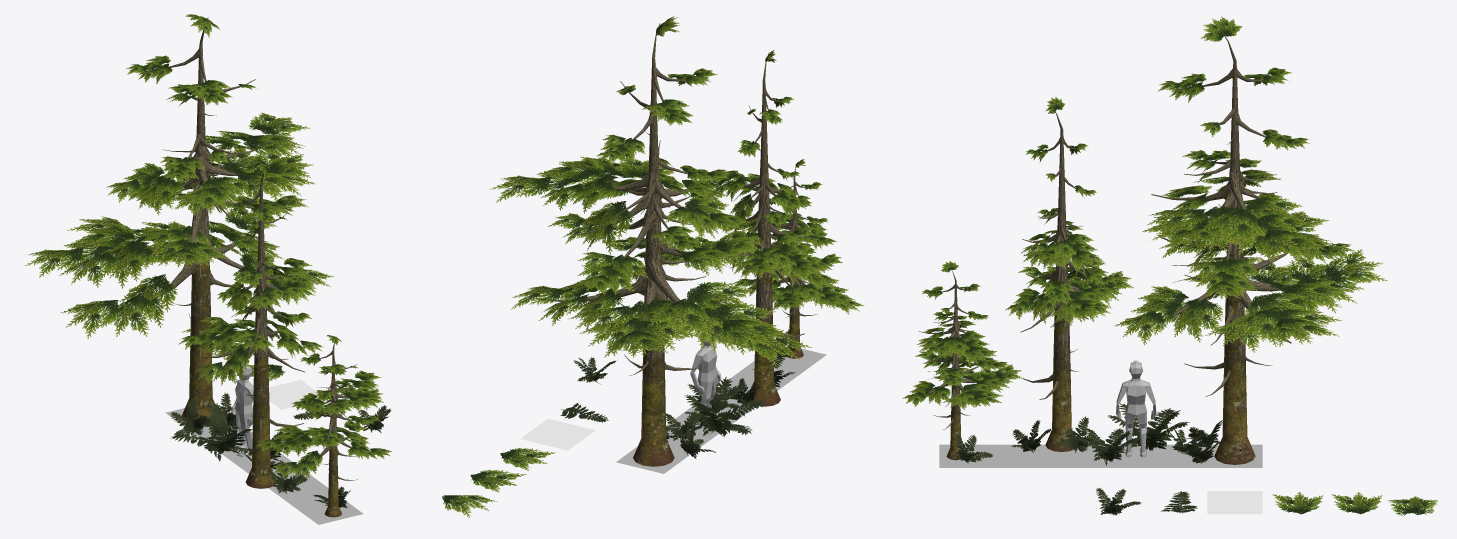
Rendered from spruce_tree.glb.
3 views of the same model, side by side, from view 1: azimuth 30°, elevation 25°; view 2: azimuth 150°, elevation 25°; view 3: azimuth 270°, elevation 25° (orthographic). The views are drawn at different scales.
Visible parts, largest first — view 1: Big_Tree1_group7_pPlane11_M_LeavesClutch_0, Big_Tree1_group7_pPlane11_M_Tree_0, Big_Tree1_group7_pPlane11_M_Ferns_0, Big_Tree1_group7_pPlane11_lambert1_0, Big_Tree1_group7_pPlane11_lambert3_0; view 2: Big_Tree1_group7_pPlane11_M_LeavesClutch_0, Big_Tree1_group7_pPlane11_M_Tree_0, Big_Tree1_group7_pPlane11_M_Ferns_0, Big_Tree1_group7_pPlane11_lambert1_0, Big_Tree1_group7_pPlane11_lambert3_0; view 3: Big_Tree1_group7_pPlane11_M_LeavesClutch_0, Big_Tree1_group7_pPlane11_M_Tree_0, Big_Tree1_group7_pPlane11_lambert1_0, Big_Tree1_group7_pPlane11_M_Ferns_0, Big_Tree1_group7_pPlane11_lambert3_0.
Part boxes in pixels (x1,y1,x2,y2): Big_Tree1_group7_pPlane11_M_LeavesClutch_0: (25,14,391,478); Big_Tree1_group7_pPlane11_M_Tree_0: (73,17,357,517); Big_Tree1_group7_pPlane11_M_Ferns_0: (170,392,391,507); Big_Tree1_group7_pPlane11_lambert1_0: (165,365,363,524); Big_Tree1_group7_pPlane11_lambert3_0: (269,380,318,409); Big_Tree1_group7_pPlane11_M_LeavesClutch_0: (442,16,864,517); Big_Tree1_group7_pPlane11_M_Tree_0: (535,23,835,466); Big_Tree1_group7_pPlane11_M_Ferns_0: (560,329,795,458); Big_Tree1_group7_pPlane11_lambert1_0: (616,332,826,473); Big_Tree1_group7_pPlane11_lambert3_0: (520,418,595,450); Big_Tree1_group7_pPlane11_M_LeavesClutch_0: (902,16,1438,516); Big_Tree1_group7_pPlane11_M_Tree_0: (919,31,1359,464); Big_Tree1_group7_pPlane11_lambert1_0: (939,360,1262,467); Big_Tree1_group7_pPlane11_M_Ferns_0: (954,403,1222,515); Big_Tree1_group7_pPlane11_lambert3_0: (1207,491,1262,514).
Bounding box in the file's own units: 6.45 × 8.88 × 9.9.
Materials: 5 (3 with a texture image).
